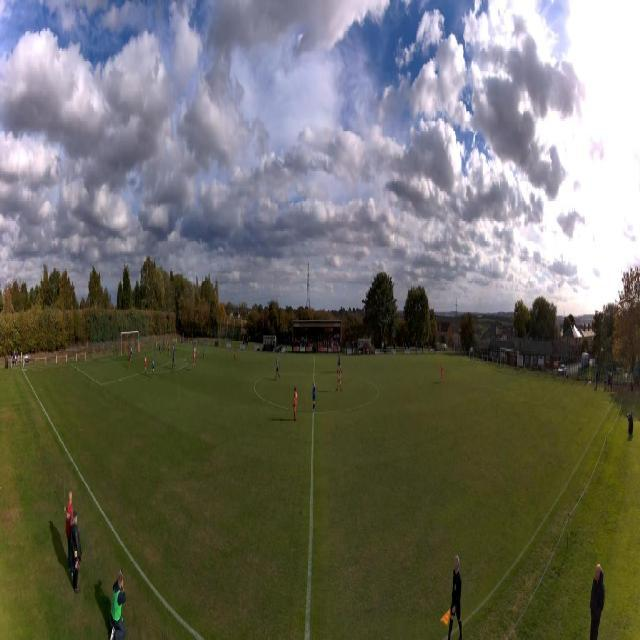ball: (169, 352, 170, 356)
player: (292, 386, 298, 422), (336, 366, 343, 392), (312, 382, 317, 413), (275, 358, 281, 380), (336, 353, 342, 373), (192, 351, 197, 371), (172, 350, 176, 370), (440, 363, 444, 383), (144, 354, 147, 376), (152, 356, 155, 377), (129, 349, 131, 369), (194, 345, 196, 365), (159, 344, 162, 356), (167, 344, 170, 356), (202, 342, 204, 359), (234, 345, 236, 362), (131, 345, 133, 361), (139, 341, 141, 353), (173, 344, 175, 356), (162, 339, 164, 350), (166, 339, 168, 350), (193, 344, 195, 352)
